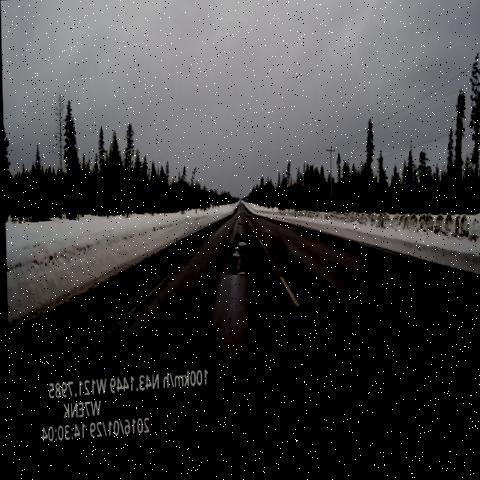pothole: (224, 233, 253, 298), (243, 208, 256, 238)
